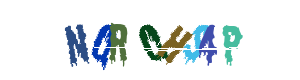4: (147, 0, 227, 80)
H: (111, 0, 191, 80)
N: (62, 0, 142, 80)
P: (169, 0, 249, 80)
Q: (86, 0, 166, 80), (109, 0, 189, 80)
R: (106, 0, 186, 80)
S: (115, 0, 195, 80)
